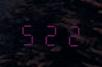five: (18, 19, 38, 46)
two: (40, 19, 60, 47), (61, 20, 81, 47)
